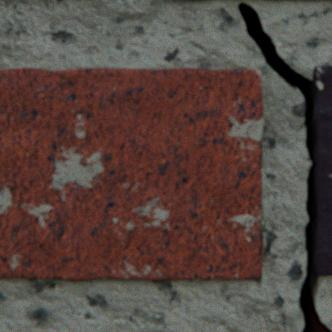brick: (0, 67, 263, 279), (312, 66, 331, 274)
crack: (237, 2, 331, 331)
